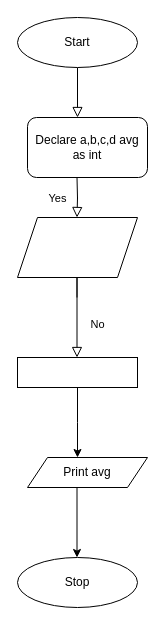
This 165x625 diagram has some shape labels left out. The shapes that lost their labels are listed below. From the top down, each one's centre as x and y in pixels, then its label:
At [77,247]: "Read a, b, c, d".
At [77,372]: "avg = (a+b+c+d)/4".
